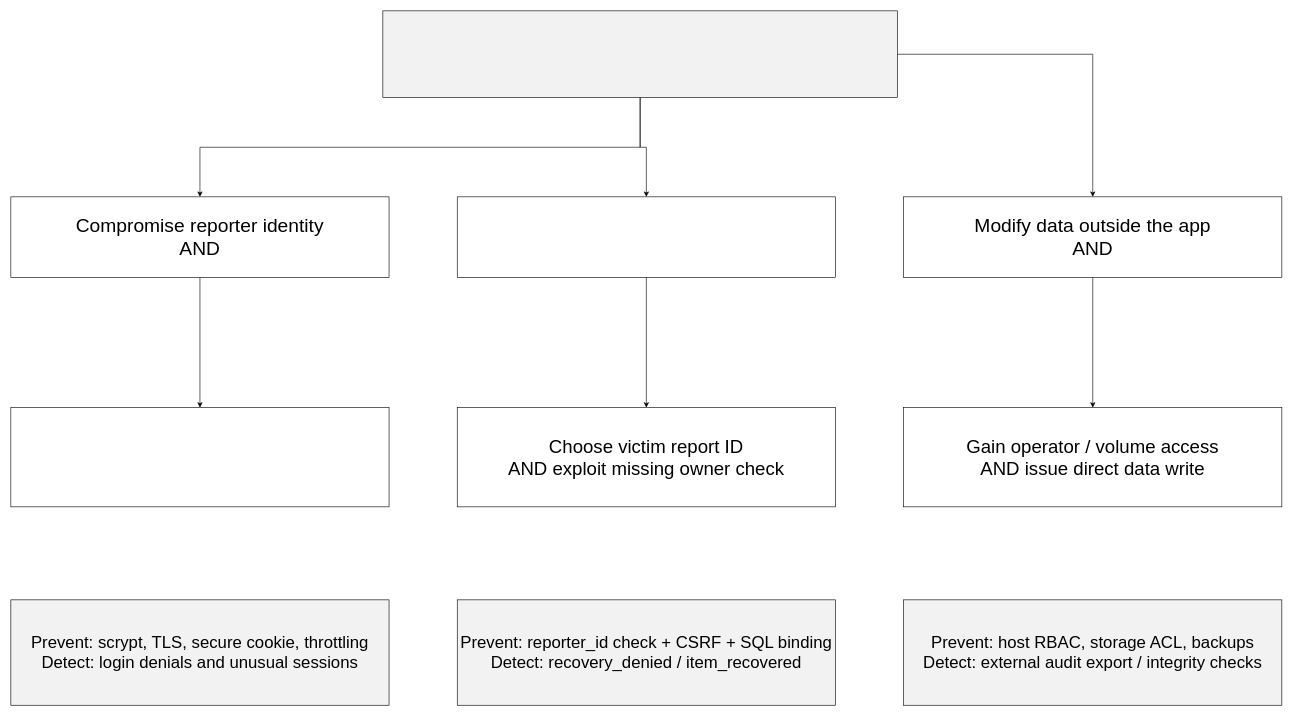
Some shapes in this 1293 by 716 pixel diagram are drawn without their labels. Each missing label, with the centre of its shape:
"Bypass recovery authorization AND" belongs at (646,236).
"Obtain password / session AND authenticate as reporter" belongs at (199,457).
"ROOT Unauthorized report recovery OR" belongs at (639,54).
